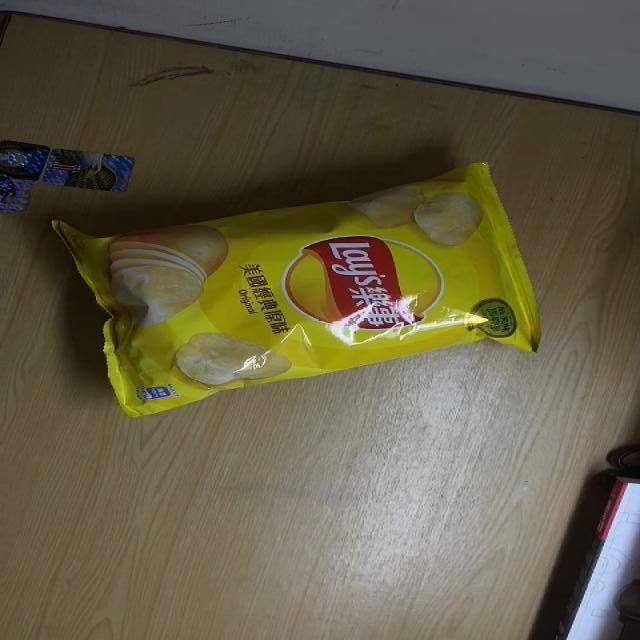Lay-s-original: (48, 162, 545, 419)
